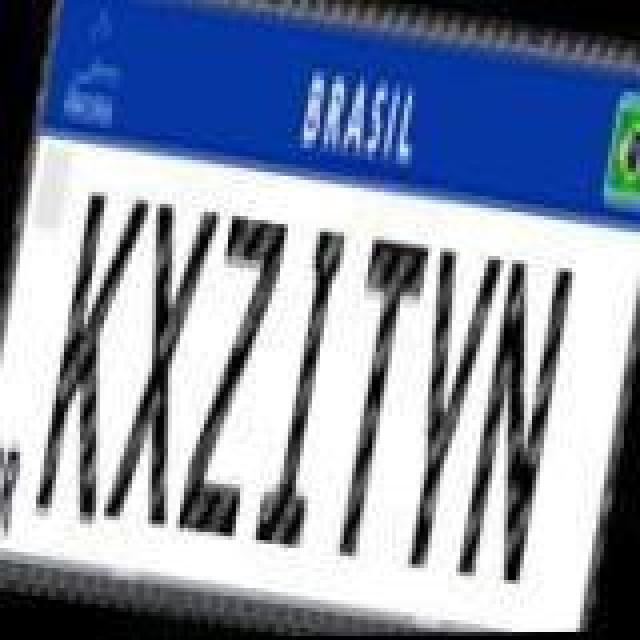I: (252, 222, 356, 554)
K: (32, 186, 152, 530)
N: (450, 254, 574, 590)
T: (318, 238, 434, 570)
X: (100, 198, 220, 534)
Y: (384, 242, 504, 578)
Z: (174, 210, 290, 546)
